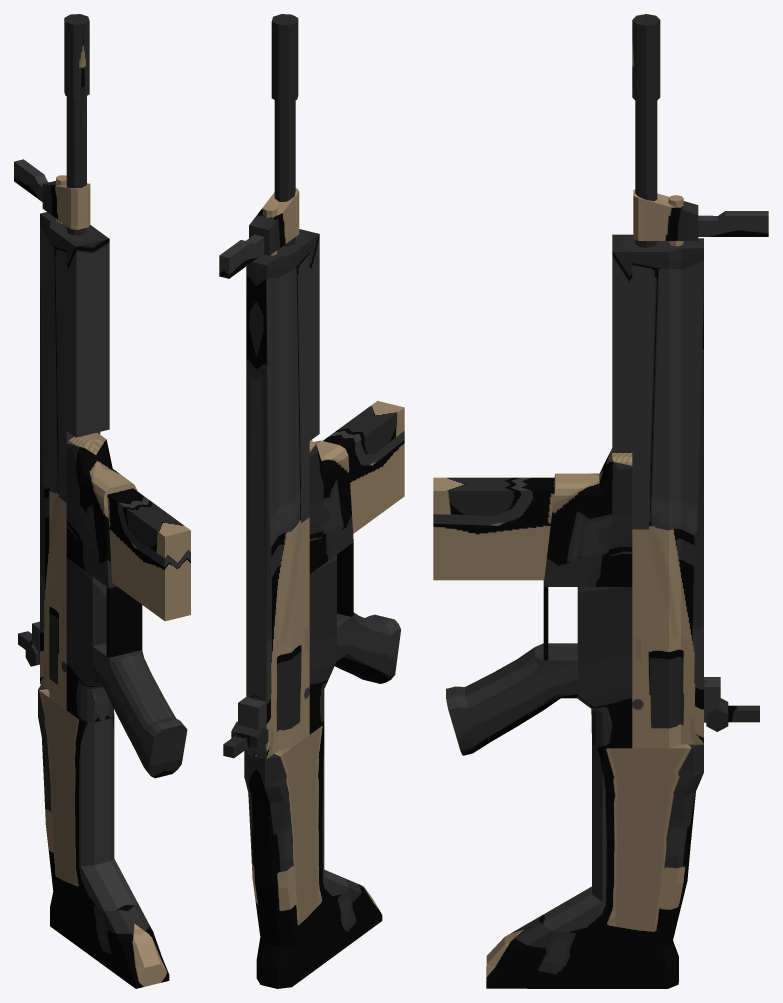
Rendered from ScarH1.00onExport.fbx.
3 renders of one model, left to right at view 1: azimuth 30°, elevation 25°; view 2: azimuth 150°, elevation 25°; view 3: azimuth 270°, elevation 25°, orthographic. The views are drawn at different scales.
Parts seen in each view (by area): view 1: ScarH; view 2: ScarH; view 3: ScarH.
Boxes of the visible parts, x1,y1,x2,y2 form: ScarH: [14, 14, 190, 988]; ScarH: [219, 14, 404, 988]; ScarH: [433, 14, 768, 988].
Bounding box in the file's own units: 2 × 52.02 × 16.48.
